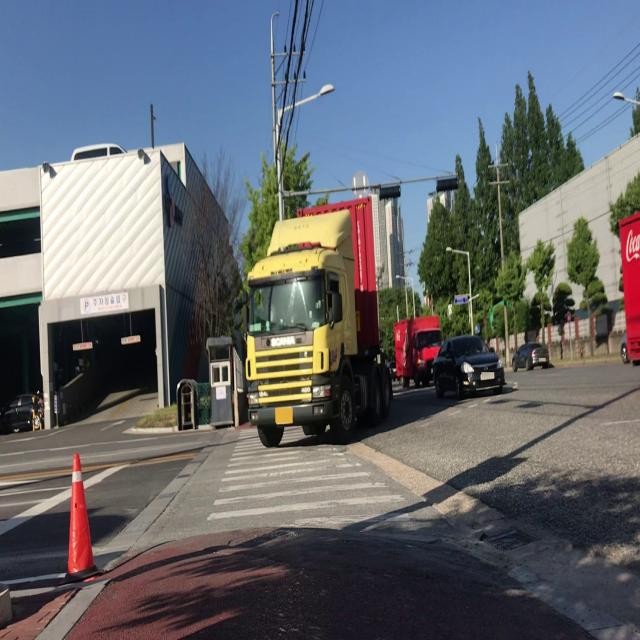횡단보도: (206, 428, 414, 523)
